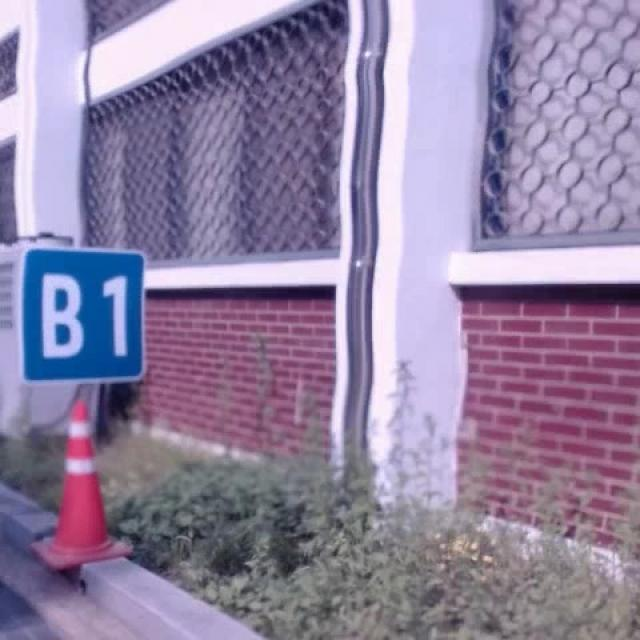b1: (13, 245, 150, 388)
